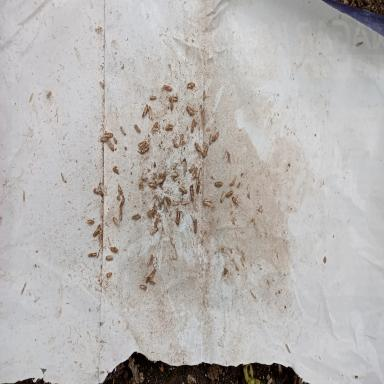pbw: (194, 141, 201, 156), (92, 224, 100, 237), (140, 144, 150, 154), (186, 105, 194, 117), (147, 268, 155, 280), (186, 79, 195, 89), (99, 182, 106, 194), (107, 138, 114, 150), (231, 196, 238, 208), (118, 197, 124, 211), (154, 212, 160, 226), (162, 198, 168, 212), (138, 140, 146, 150), (152, 121, 158, 134), (142, 104, 148, 117), (192, 167, 198, 180), (212, 131, 219, 142), (201, 108, 205, 127), (176, 210, 181, 225), (93, 187, 102, 195), (190, 184, 194, 202), (163, 84, 172, 92), (112, 216, 119, 226), (203, 144, 208, 158), (110, 246, 120, 253), (150, 226, 158, 234), (149, 180, 157, 188), (193, 218, 197, 234), (88, 251, 97, 258), (132, 213, 141, 220), (172, 138, 178, 148), (120, 126, 126, 136), (203, 198, 211, 205), (191, 118, 195, 132), (148, 106, 152, 120), (196, 180, 200, 194), (165, 124, 173, 131), (214, 181, 223, 187), (195, 176, 199, 189), (118, 182, 122, 195), (104, 132, 114, 137), (190, 163, 195, 173), (225, 190, 232, 197), (220, 190, 224, 202), (100, 136, 108, 142), (179, 187, 187, 193), (181, 200, 189, 206), (230, 178, 236, 185), (199, 166, 202, 180), (170, 97, 173, 111), (156, 178, 163, 184), (106, 255, 114, 260), (180, 133, 183, 146), (209, 132, 212, 144), (169, 96, 178, 100), (150, 94, 156, 100), (87, 219, 94, 224), (172, 201, 179, 206), (140, 285, 147, 290), (203, 89, 206, 100), (171, 172, 179, 176), (184, 161, 186, 176), (120, 208, 122, 221), (106, 272, 112, 276), (174, 177, 179, 181)
